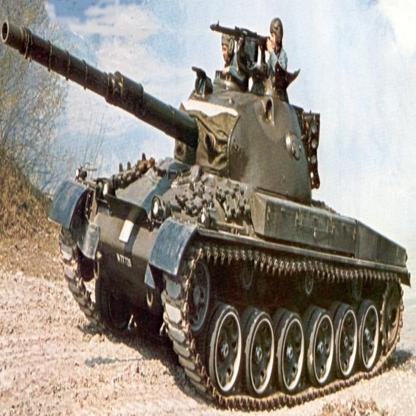Tank: (1, 11, 412, 400)
